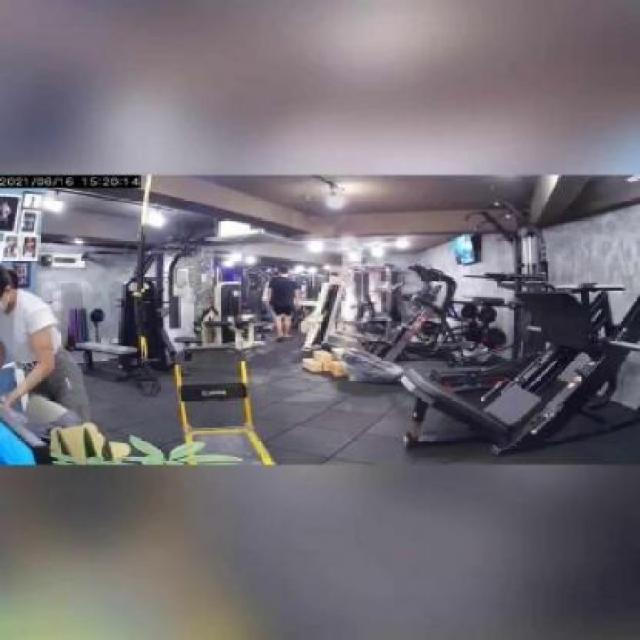leg press: (349, 251, 640, 518)
